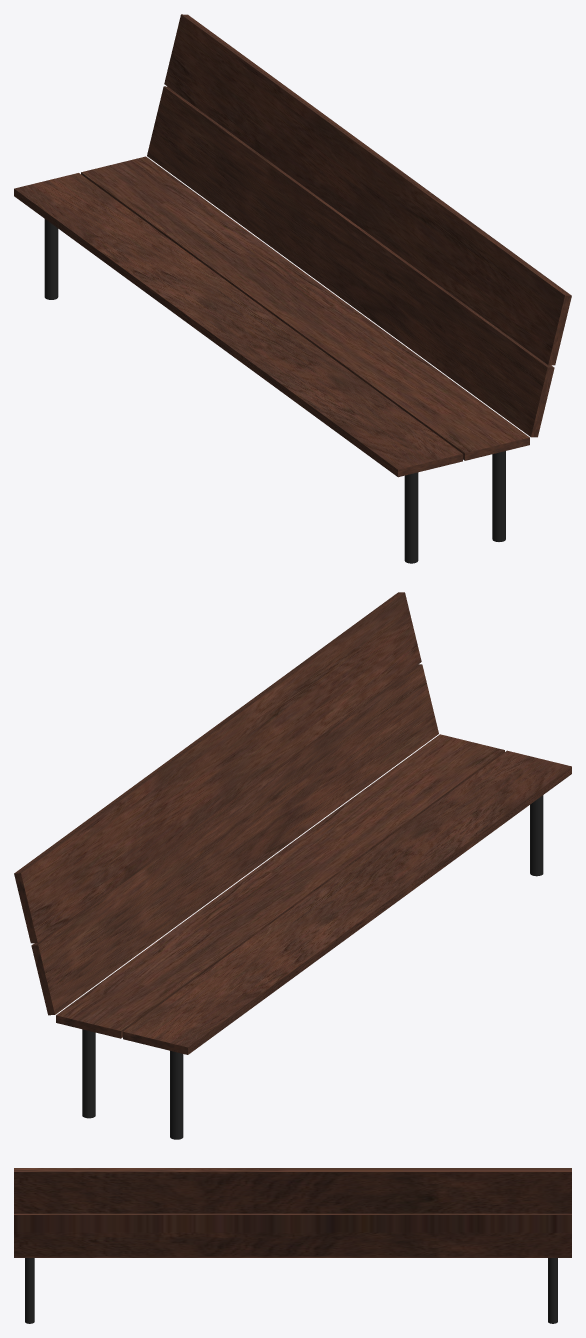
Rendered from Lieu, Eva - Bench.glb.
3 views of the same model, one above another, from view 1: azimuth 30°, elevation 25°; view 2: azimuth 150°, elevation 25°; view 3: azimuth 270°, elevation 25° (orthographic). The views are drawn at different scales.
Visible parts, largest first — view 1: Bench -hotspot; view 2: Bench -hotspot; view 3: Bench -hotspot.
Part boxes in pixels (x1,y1,x2,y2): Bench -hotspot: [14, 14, 571, 563]; Bench -hotspot: [14, 592, 571, 1139]; Bench -hotspot: [14, 1168, 571, 1323].
Bounding box in the file's own units: 0.6729 × 0.8809 × 2.57.
2 materials, 1 textured.
